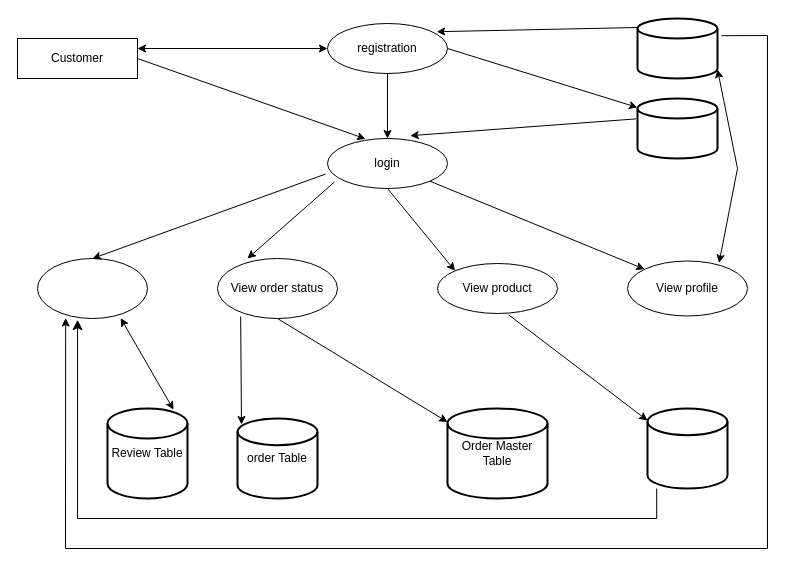
Image size: 793x574. Some labels were removed from this diagram. The shapes that lost their labels are listed below. From the top down, each one's box as (x1, y1, x2, y2) in pixels, then its label:
(636, 17, 718, 79): User Table
(636, 97, 718, 159): LoginTable
(36, 258, 148, 318): Add / View Prdouct Review
(646, 407, 728, 489): Item Table
